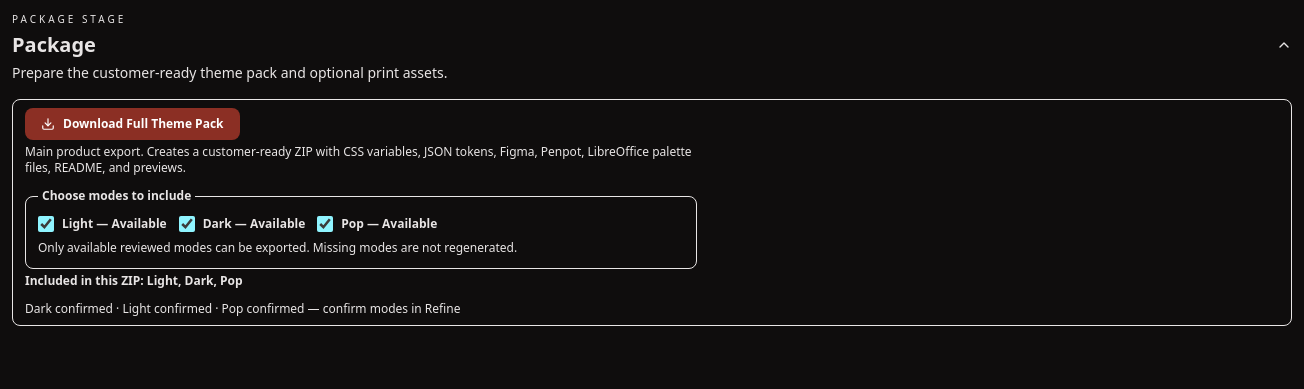
Test case: PackageStage › shows full-family success after export
Step 1. Click the button "Download Full Theme Pack" → [132, 124], box 25,108 -> 240,140
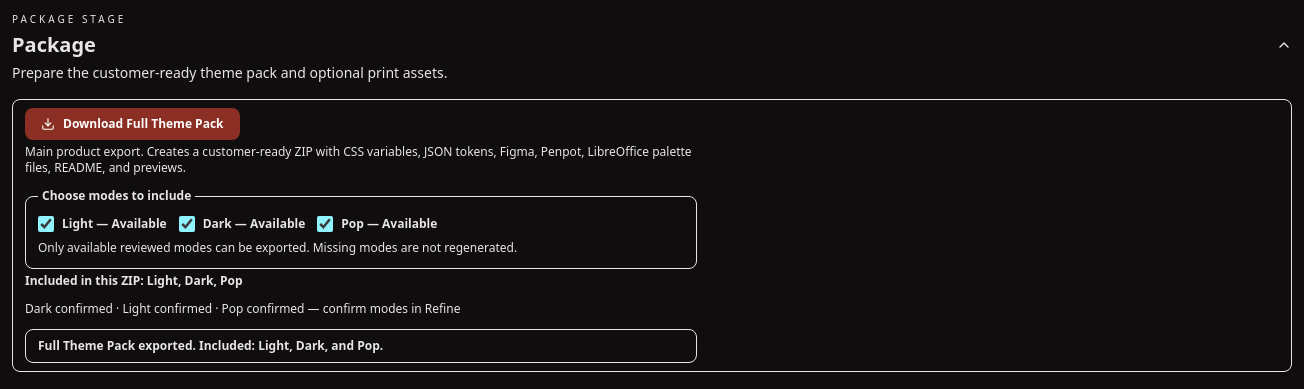
Expected: the message reads "Full Theme Pack exported. Included: Light, Dark, and Pop.", 38,337 -> 383,354
